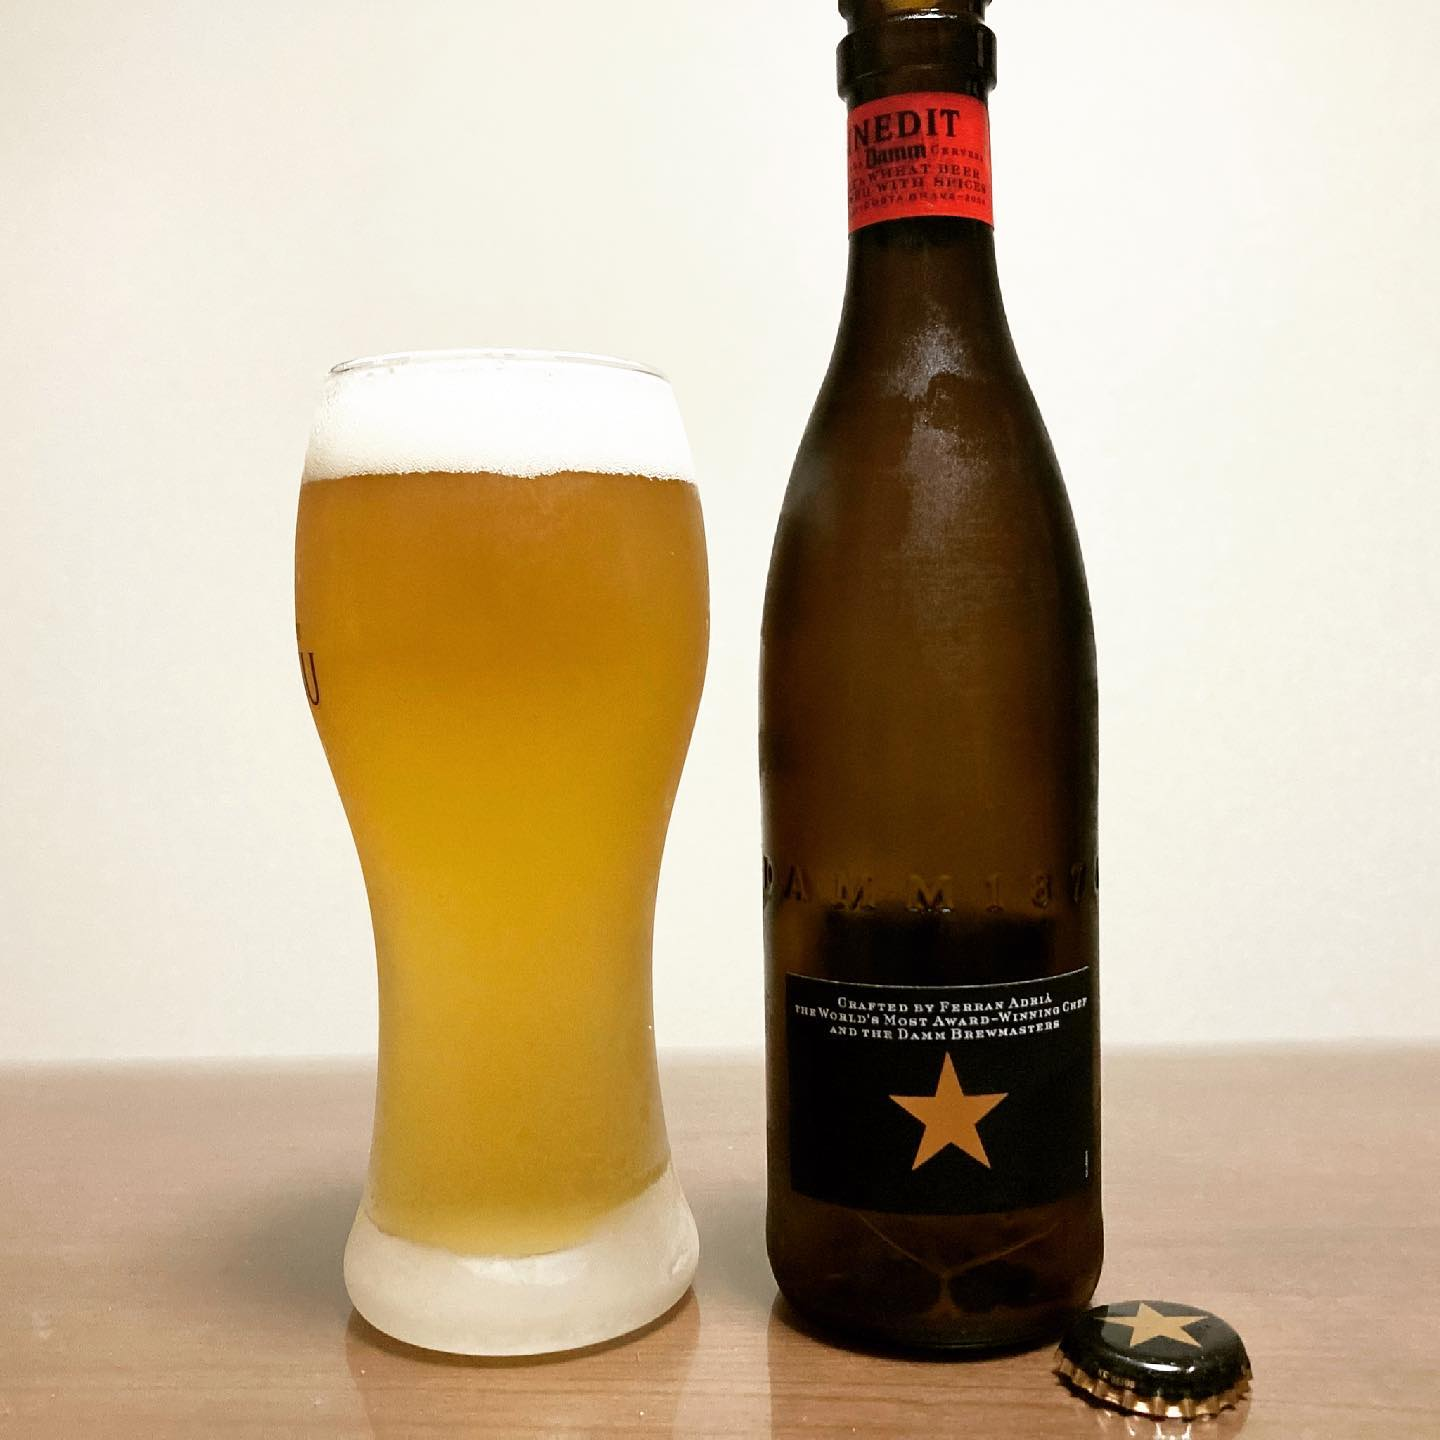alcohol: (749, 0, 1109, 1371), (285, 340, 717, 1374)
